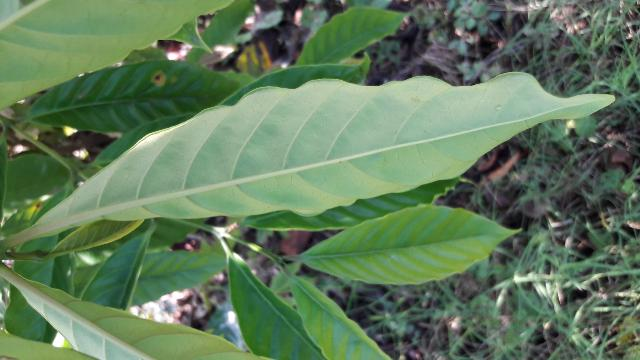healthy: (30, 72, 610, 238)
